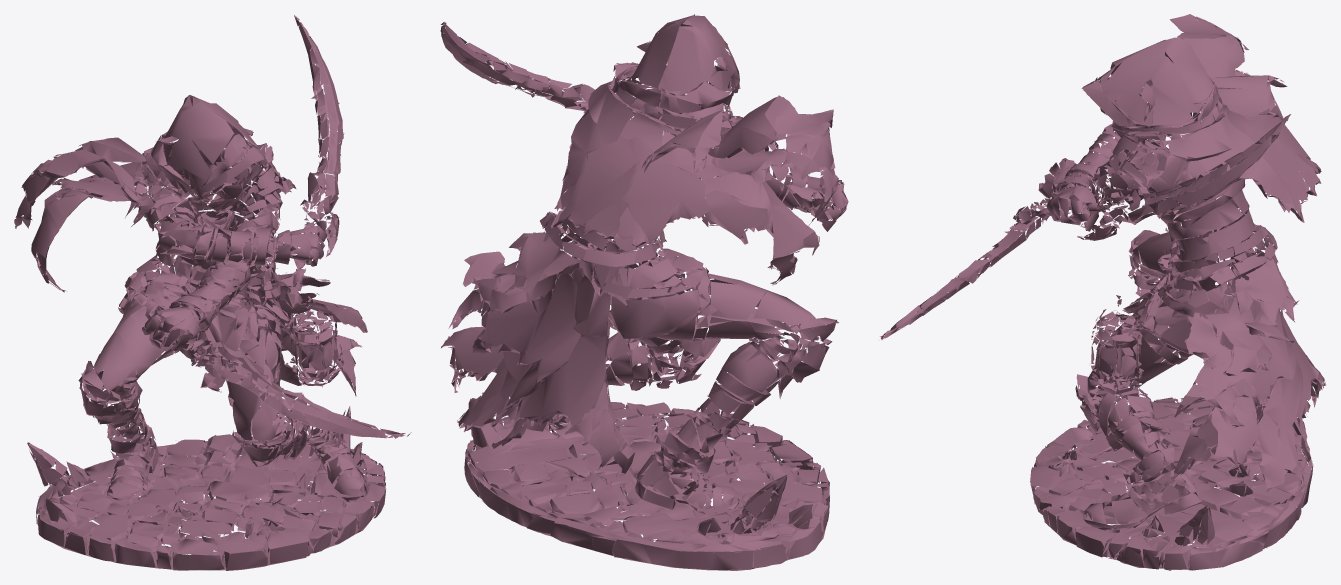
The model's file is lantern-reaver.glb.
The picture shows the model from 3 angles, left to right: view 1: azimuth 30°, elevation 25°; view 2: azimuth 150°, elevation 25°; view 3: azimuth 270°, elevation 25°; orthographic projection. The views are drawn at different scales.
Visible parts, largest first — view 1: model; view 2: model; view 3: model.
Part boxes in pixels (x1,y1,x2,y2): model: [14, 15, 411, 570]; model: [440, 14, 848, 570]; model: [880, 14, 1325, 570].
Bounding box in the file's own units: 1.58 × 1.89 × 1.72.
